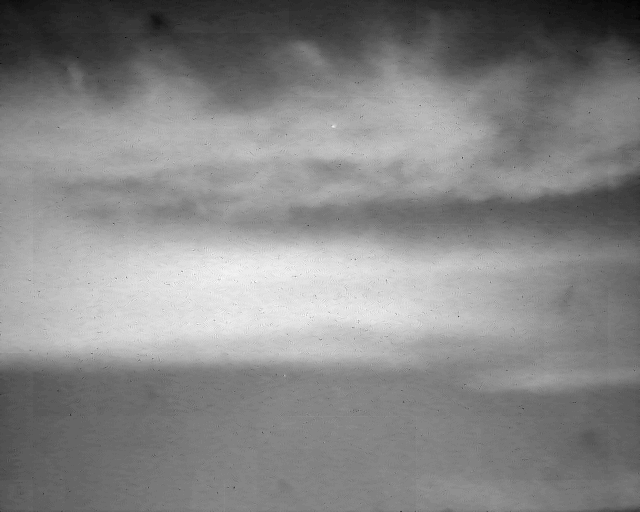Target: (331, 125, 336, 128)
